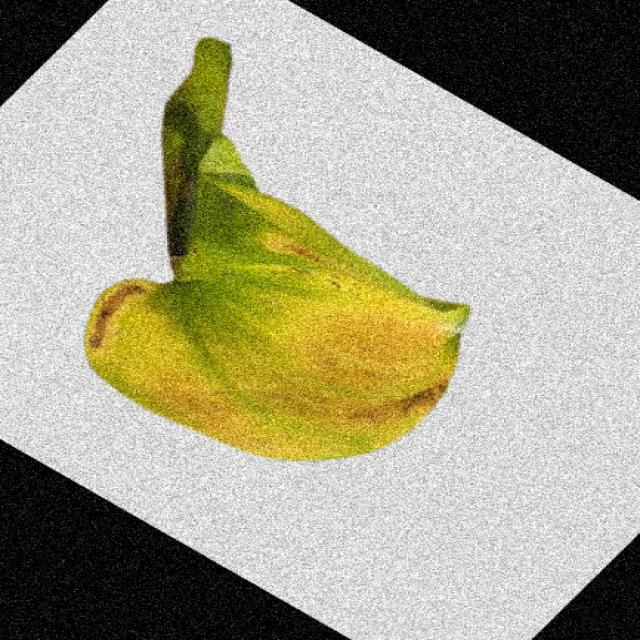daun berpenyakit kuning: (85, 38, 470, 460)
